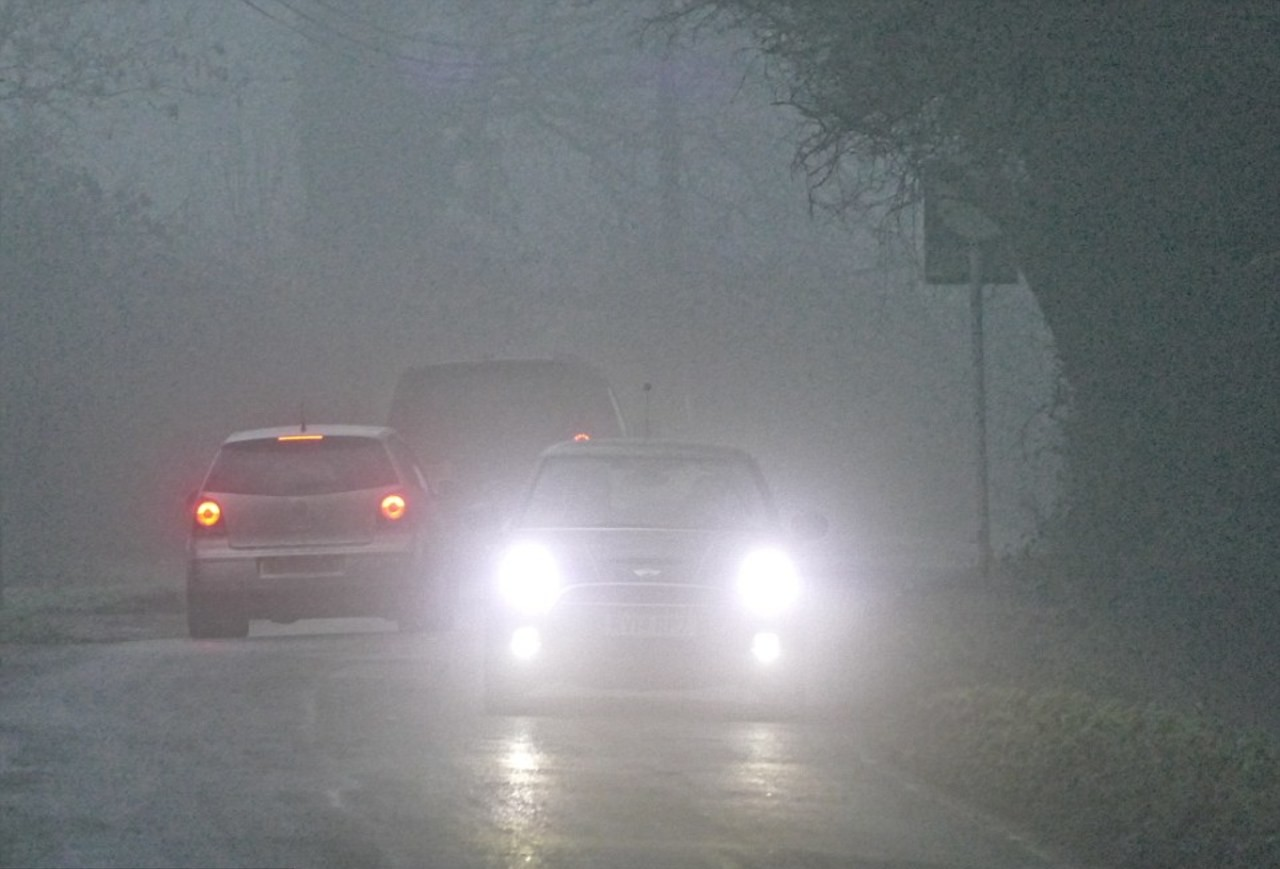car: (485, 431, 801, 705), (373, 355, 635, 666), (183, 419, 434, 638)
